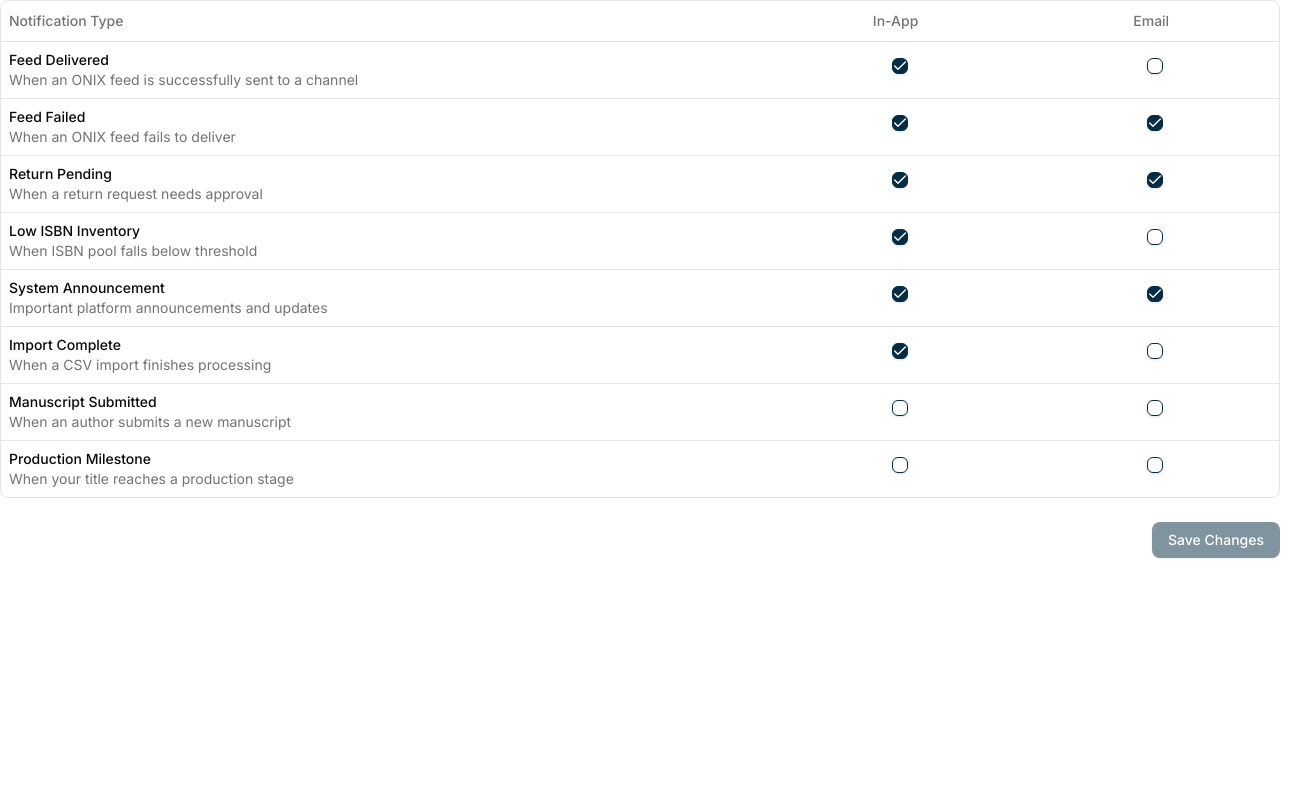
NotificationPreferencesForm › should enable save button when preferences change
Expected: the text "Feed Delivered" is shown, left=9, top=50, right=109, bottom=68
Find and click a checkbox to make a change
Click the checkbox named "Feed Delivered in-app notifications" at [900, 66], box left=892, top=58, right=908, bottom=74
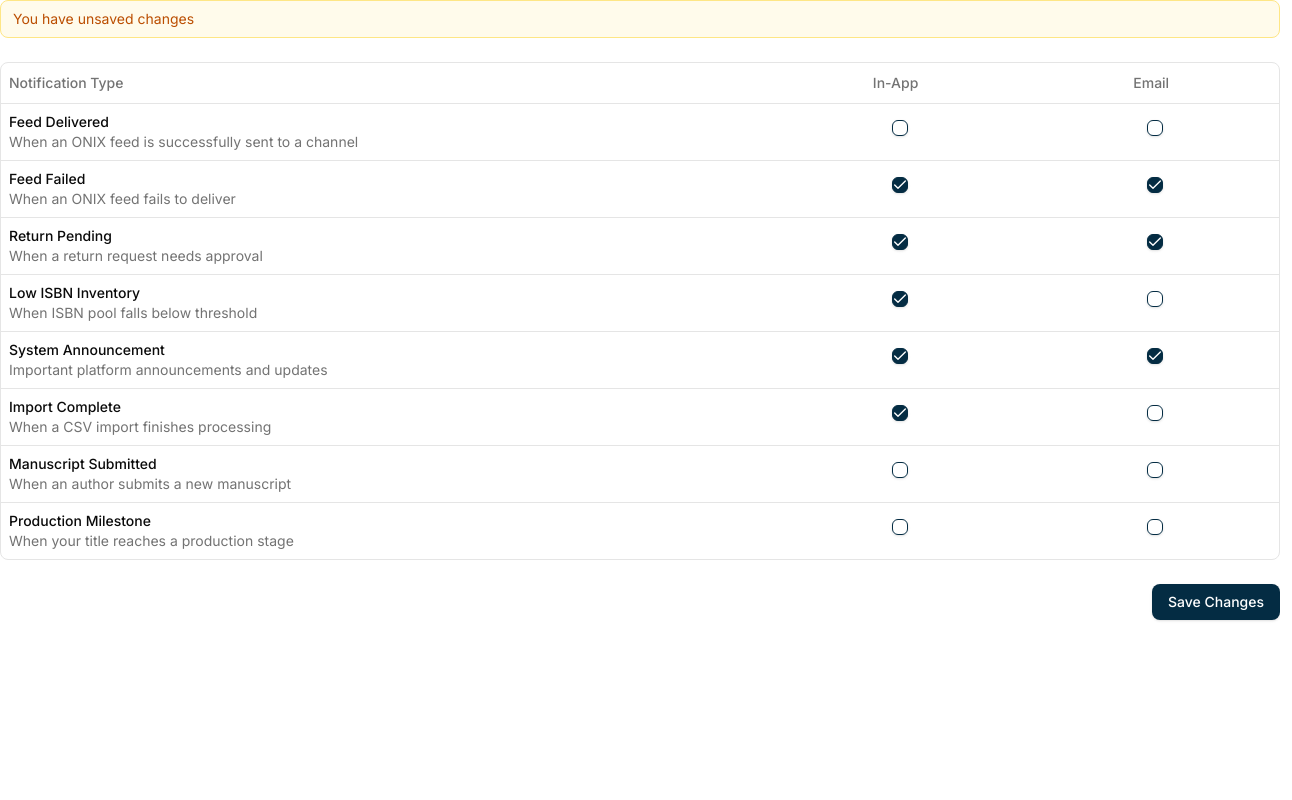
Expected: the button "Save Changes" is enabled, left=1152, top=584, right=1280, bottom=620
